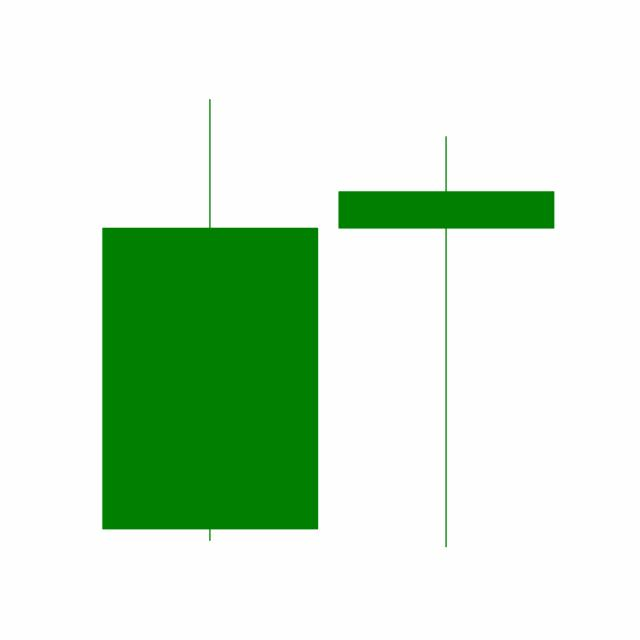Hanging Man: (327, 131, 565, 551)
